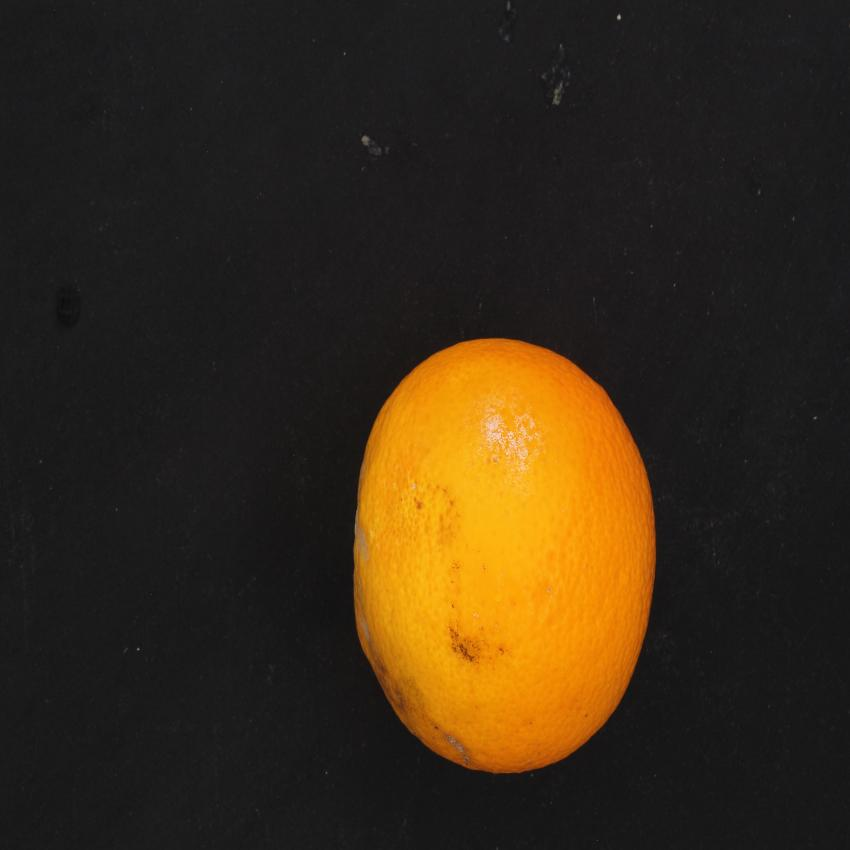Mal estado: (345, 330, 678, 783)
